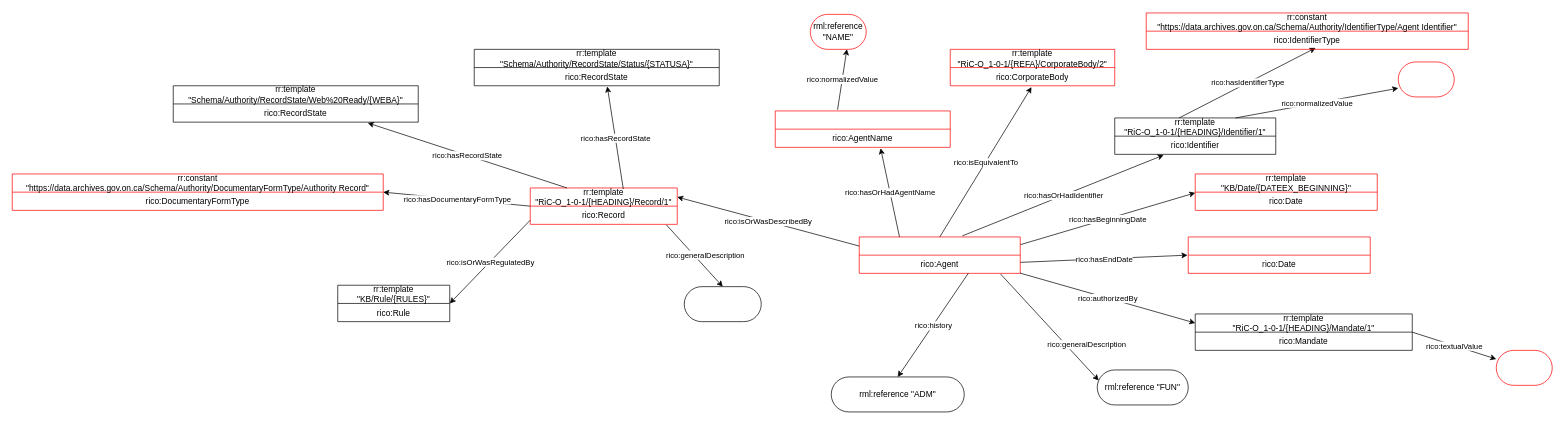
This 1565x424 diagram has some shape labels left out. The shapes that lost their labels are listed below. From the top down, each one's box as (x1, y1, x2, y2) in pixels, then its label:
(1398, 61, 1454, 97): rml:reference "REFA"
(775, 110, 950, 147): rr:template "RiC-O_1-0-1/ {HEADING}/AgentName/1"
(859, 236, 1020, 273): rr:template "RiC-O_1-0-1/ {HEADING}/Agent/1"
(1188, 236, 1370, 273): rr:template "KB/Date /{ DATEEX_END}"
(684, 286, 761, 322): rml:reference " SOURCE "
(1496, 350, 1552, 385): rml:reference "AA"
